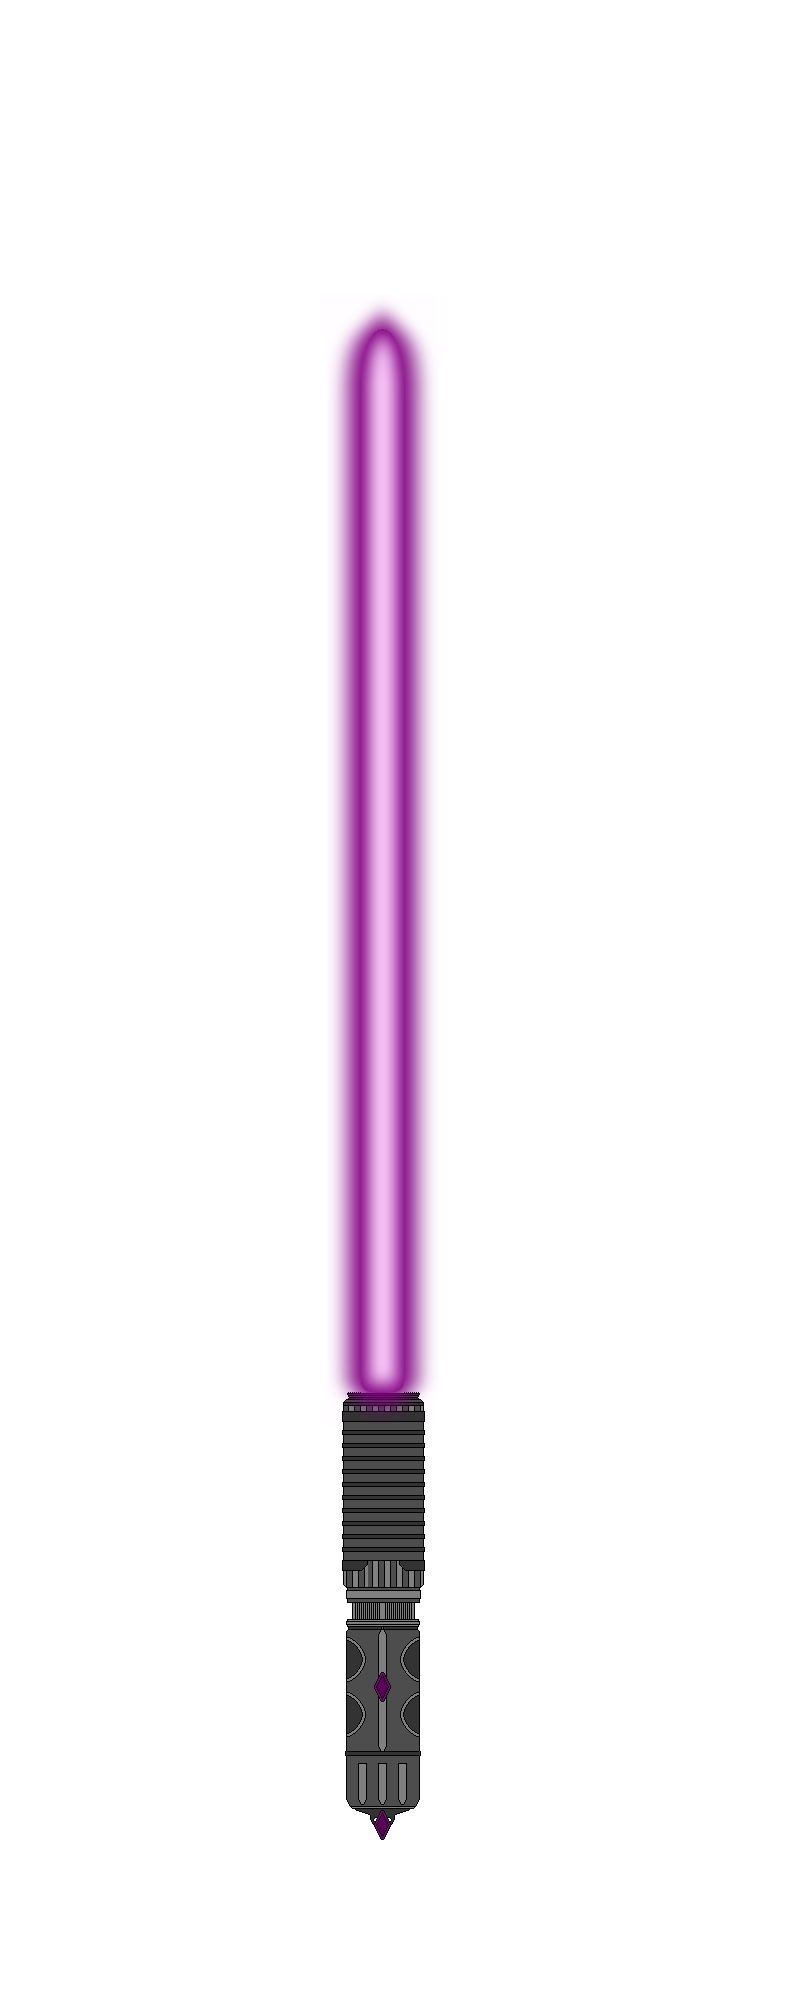lightsaber: (327, 235, 433, 1906)
